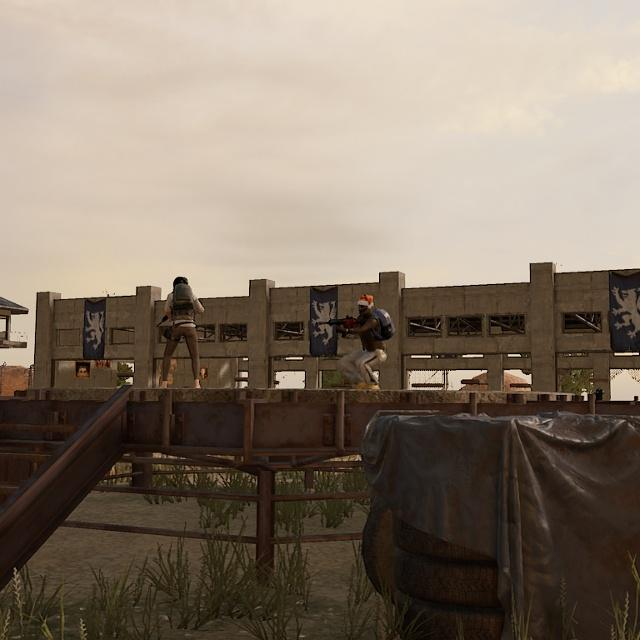head: (353, 289, 376, 317), (169, 273, 192, 293)
people: (157, 272, 207, 391), (342, 285, 396, 390)
